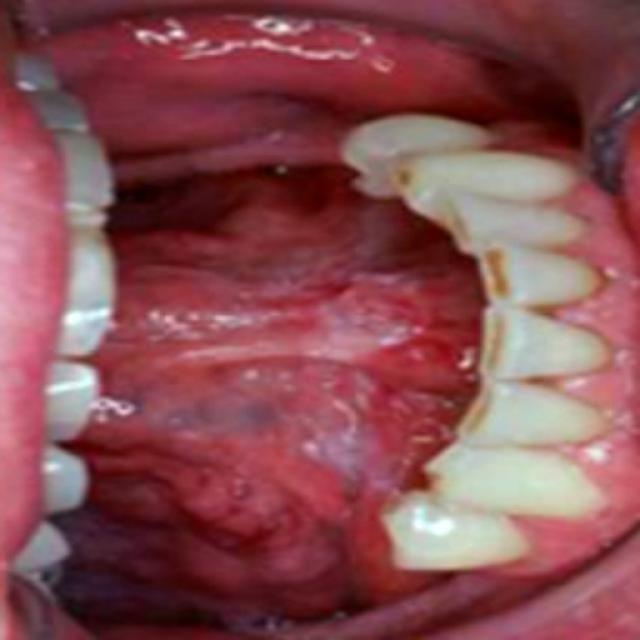cancer-detection: (46, 156, 482, 626)
processing_area: (17, 0, 639, 639), (335, 115, 613, 582)
